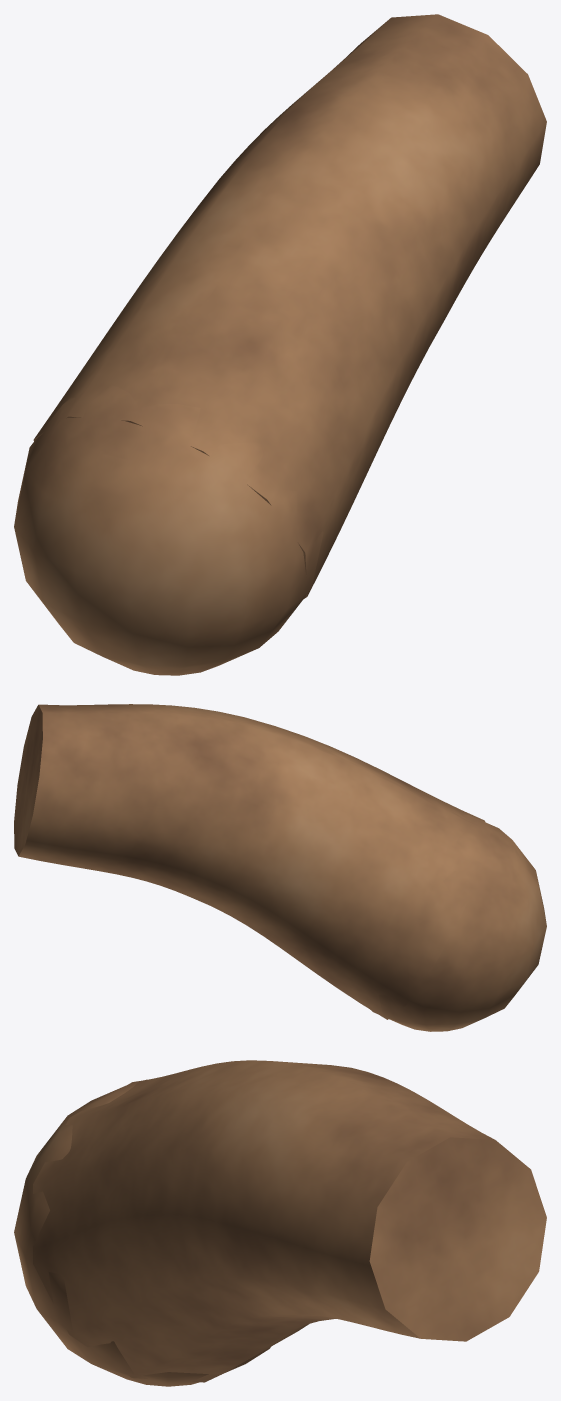
The model's file is headcrab_muslo_tras_izq.obj.
3 views of the same model, one above another, from view 1: azimuth 30°, elevation 25°; view 2: azimuth 150°, elevation 25°; view 3: azimuth 270°, elevation 25° (orthographic). The views are drawn at different scales.
Parts seen in each view (by area): view 1: muslo_tras_izq; view 2: muslo_tras_izq; view 3: muslo_tras_izq.
Boxes of the visible parts, x1,y1,x2,y2 form: muslo_tras_izq: (14,14,546,675); muslo_tras_izq: (14,704,546,1031); muslo_tras_izq: (14,1060,546,1386).
Bounding box in the file's own units: 0.1443 × 0.0986 × 0.1104.
